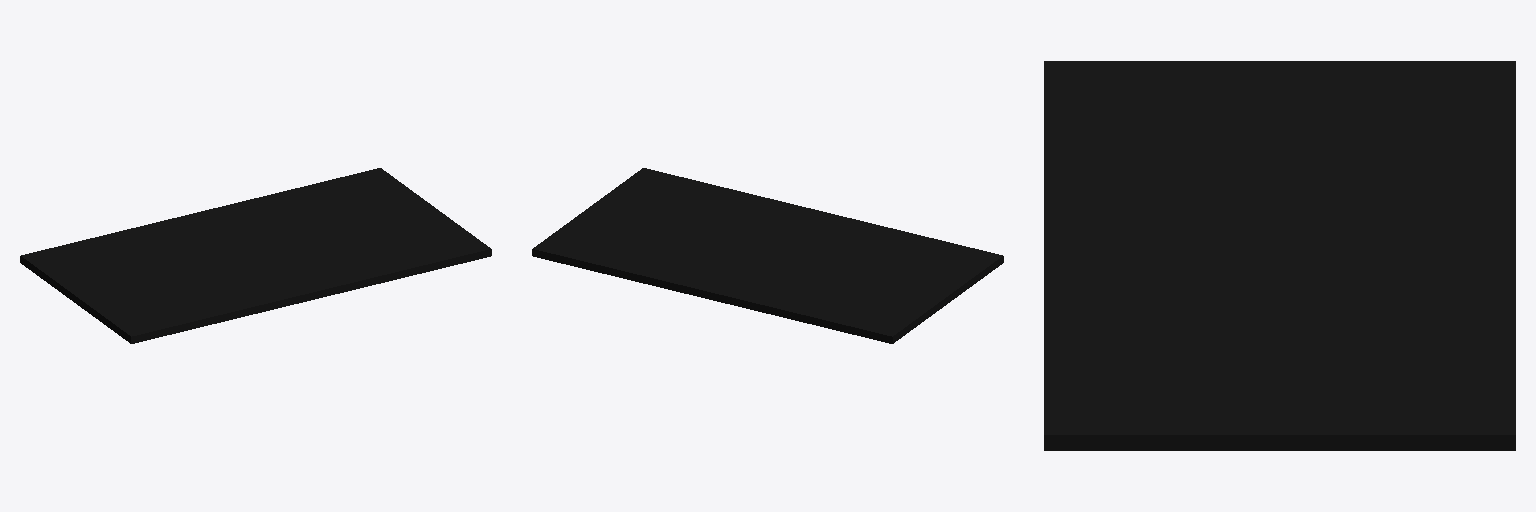
robot.urdf — table_top:
<?xml version="1.0" ?>
<!-- Superficie/tablero de la mesa. Separado de las patas para aplicar materiales independientes. -->
<robot name="table_top">
	<link name="tablero">
		<inertial>
			<origin rpy="0 0 0" xyz="0 0 1.0"/>
			<mass value="10.0"/>
			<inertia ixx="1.0" ixy="0.0" ixz="0.0" iyy="1.0" iyz="0.0" izz="1.0"/>
		</inertial>
		<collision>
			<origin rpy="0 0 0" xyz="0 0 1.0"/>
			<geometry>
				<box size="1.5 0.8 0.03"/>
			</geometry>
		</collision>
		<visual>
			<origin rpy="0 0 0" xyz="0 0 1.0"/>
			<geometry>
				<box size="1.5 0.8 0.03"/>
			</geometry>
			<material name="tablero_mat">
				<color rgba="0.12 0.12 0.12 1.0"/>
			</material>
		</visual>
	</link>
</robot>

--- Facts derived from the render (not from the file) ---
The picture shows the robot from 3 angles, left to right: view 1: azimuth 30°, elevation 25°; view 2: azimuth 150°, elevation 25°; view 3: azimuth 270°, elevation 25°; orthographic projection.
Robot: table_top — 1 links, 0 joints (none); root link tablero; default pose: every joint at zero.
Links seen in each view (by area): view 1: tablero; view 2: tablero; view 3: tablero.
Boxes of the visible links, x1=… form: tablero: x1=20, y1=168, x2=491, y2=343; tablero: x1=532, y1=168, x2=1003, y2=343; tablero: x1=1044, y1=61, x2=1515, y2=450.
Size in the robot's own frame: 1.5 by 0.8 by 0.03 metres.
Geometry: primitives only (box / cylinder / sphere), no mesh files.
